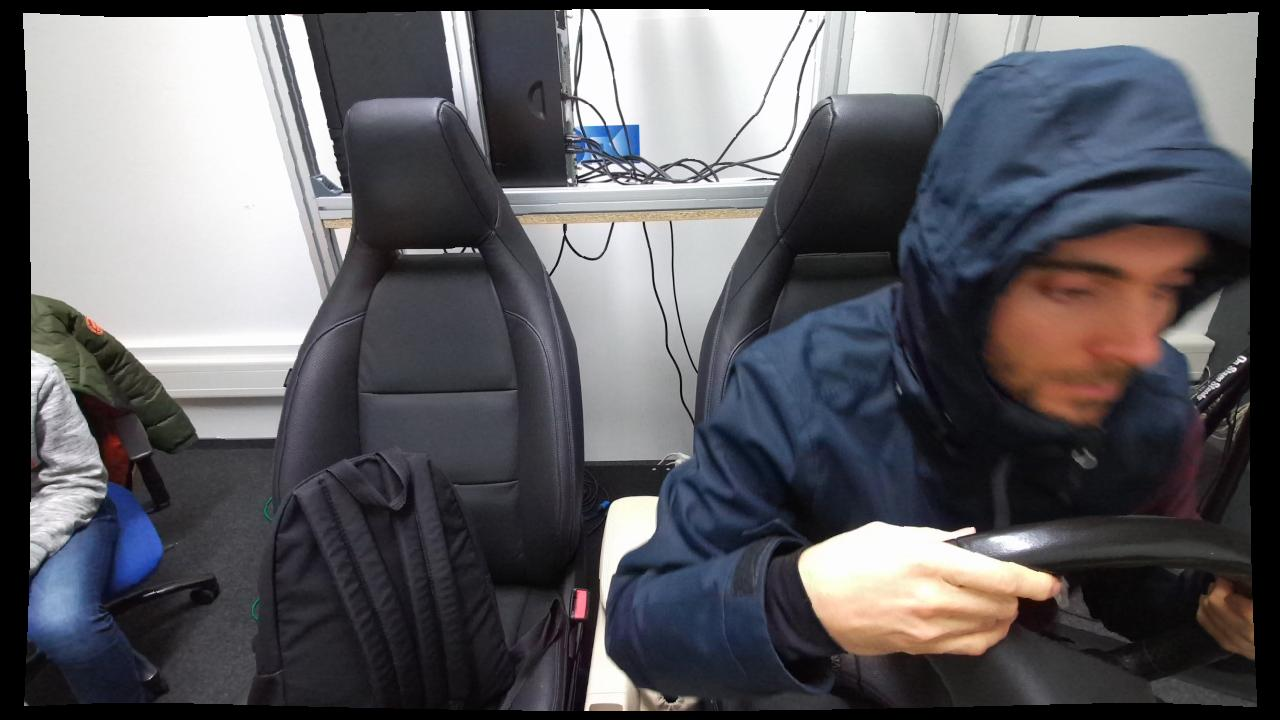Distracted: (602, 40, 1248, 716)
